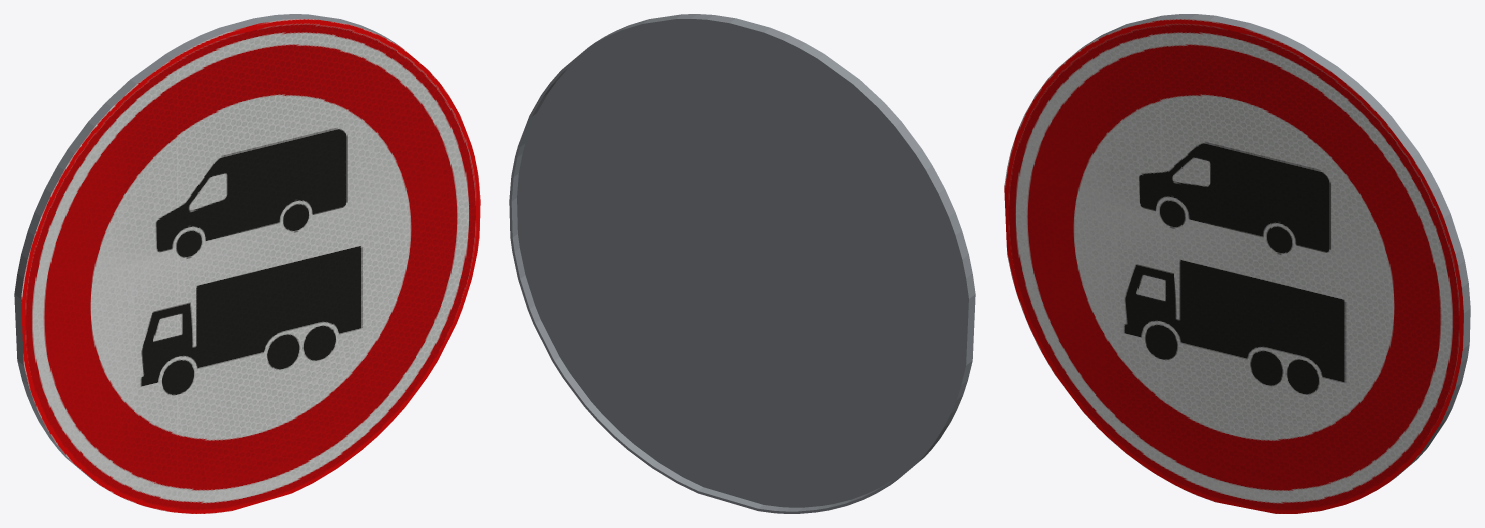
The picture shows the model from 3 angles, left to right: view 1: azimuth 30°, elevation 25°; view 2: azimuth 150°, elevation 25°; view 3: azimuth 330°, elevation 25°; orthographic projection.
Visible parts, largest first — view 1: cat_8690f8736a5f61c4; view 2: cat_8690f8736a5f61c4; view 3: cat_8690f8736a5f61c4.
Part boxes in pixels (x1,y1,x2,y2): cat_8690f8736a5f61c4: (14,14,480,513); cat_8690f8736a5f61c4: (509,14,975,513); cat_8690f8736a5f61c4: (1004,14,1470,513).
Size of the model in its own units: 0.6 by 0.015 by 0.6.
Materials: 2 (1 with a texture image).
